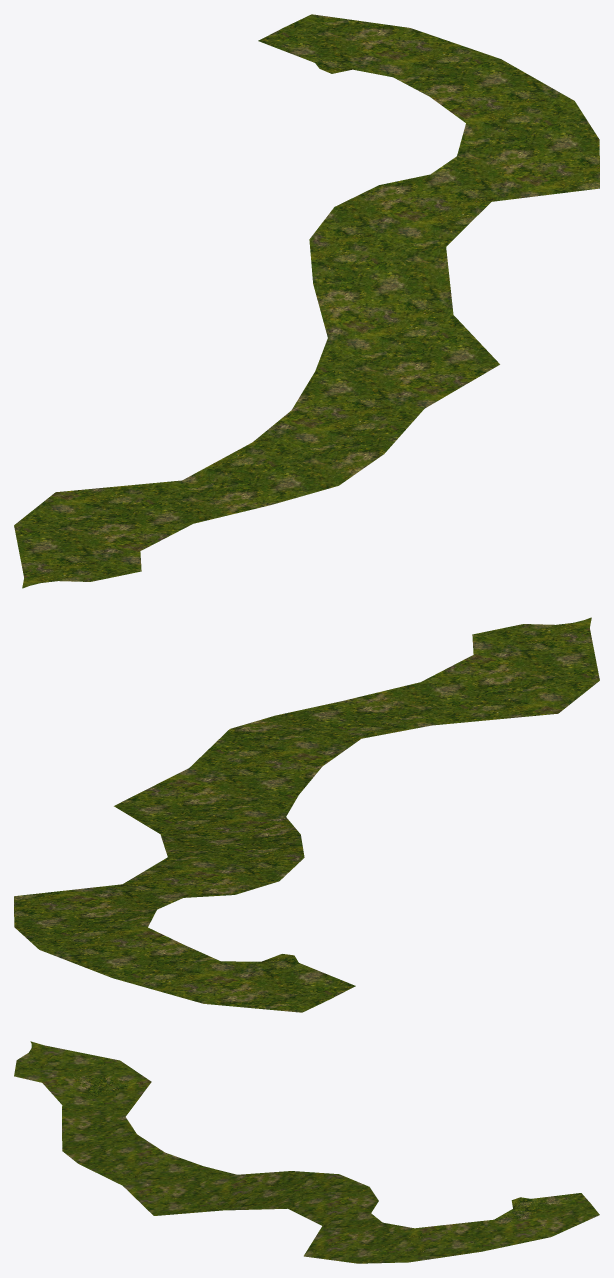
The model's file is OVERHILL_A_01_LINE92.fbx.
3 renders of one model, top to bottom at view 1: azimuth 30°, elevation 25°; view 2: azimuth 210°, elevation 25°; view 3: azimuth 270°, elevation 25°, orthographic. The views are drawn at different scales.
Parts seen in each view (by area): view 1: OVERHILL_A_01_LINE92; view 2: OVERHILL_A_01_LINE92; view 3: OVERHILL_A_01_LINE92.
Boxes of the visible parts, bbox=[...] form: OVERHILL_A_01_LINE92: bbox=[14, 14, 599, 588]; OVERHILL_A_01_LINE92: bbox=[14, 617, 599, 1012]; OVERHILL_A_01_LINE92: bbox=[14, 1041, 599, 1263].
Bounding box in the file's own units: 136939 × 14641 × 124087.
1 material, 1 textured.
